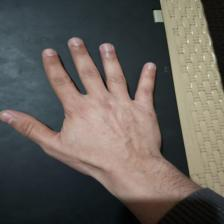five: (8, 36, 166, 172)
